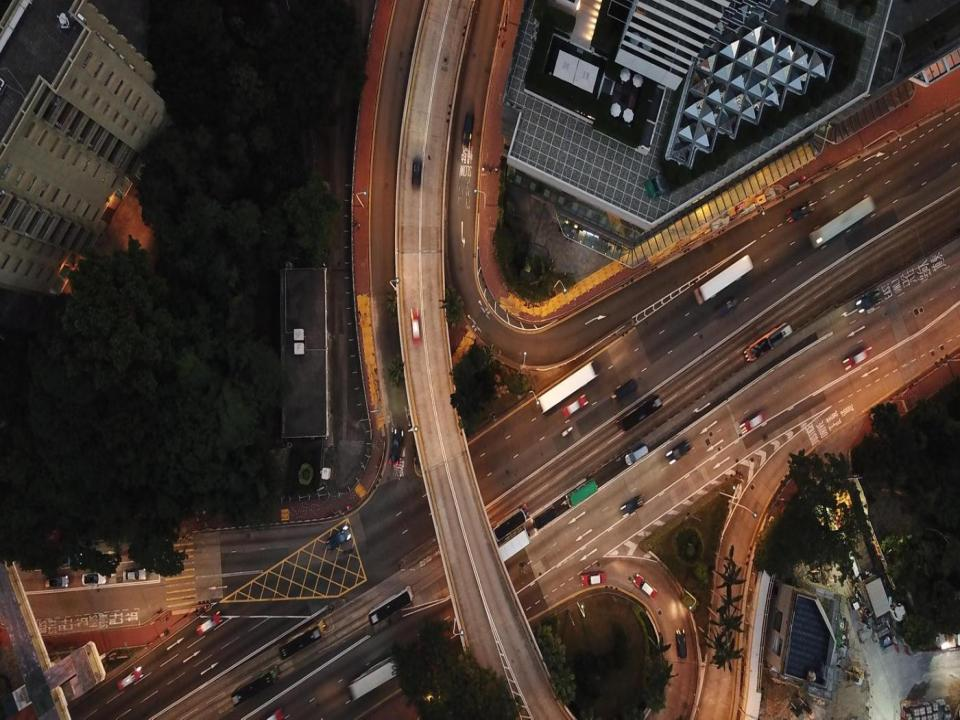bus: (809, 196, 874, 248), (349, 651, 409, 701), (696, 255, 752, 305), (538, 362, 595, 411), (231, 666, 281, 706), (278, 620, 327, 660), (743, 322, 793, 360), (368, 586, 414, 625), (616, 395, 662, 432), (492, 502, 530, 542), (492, 530, 530, 566)
car: (566, 479, 597, 507), (842, 347, 872, 372), (325, 525, 351, 551), (632, 573, 658, 599), (197, 610, 222, 636), (117, 666, 144, 690), (562, 395, 588, 419), (666, 440, 692, 464), (786, 202, 812, 224), (739, 412, 765, 433), (389, 429, 404, 465), (614, 379, 638, 401), (857, 290, 881, 312), (533, 507, 557, 528), (462, 112, 475, 146), (409, 309, 422, 343), (715, 299, 737, 317), (581, 570, 605, 585), (676, 628, 687, 659), (81, 573, 106, 585), (411, 158, 421, 187), (44, 576, 68, 588), (123, 569, 147, 580)
van: (620, 494, 644, 516), (624, 445, 648, 465)
